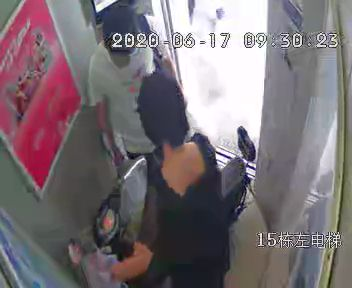Electric-bicycle: (70, 128, 255, 274)
